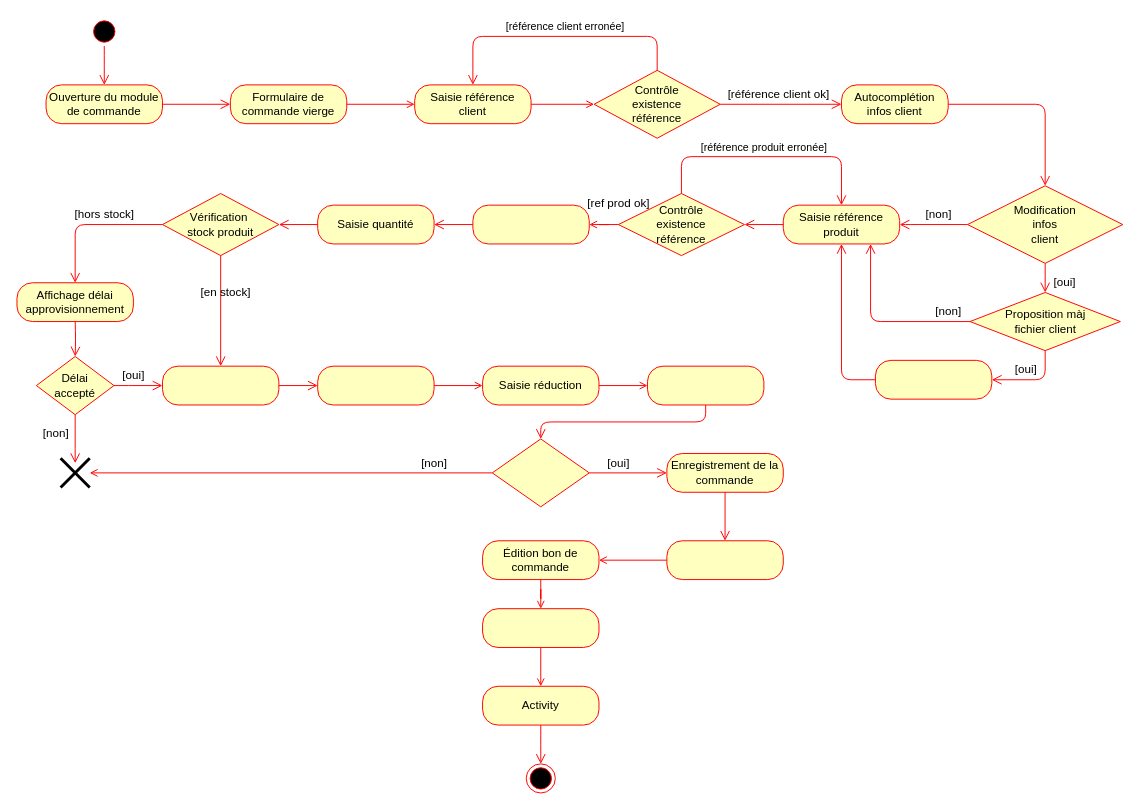
This 1140x810 diagram has some shape labels left out. Each missing label, with the centre of its shape:
Affichage infos produit: the point at 530,224
Affichage prix avec réduction: the point at 705,385
Affichage prix HT et TTC: the point at 220,385
Affiche saisie réduction: the point at 375,385
Attribution numéro de commande: the point at 724,560
Confirmation commande: the point at 540,472
Mise à jour fichier client: the point at 933,379
Édition facture: the point at 540,627
